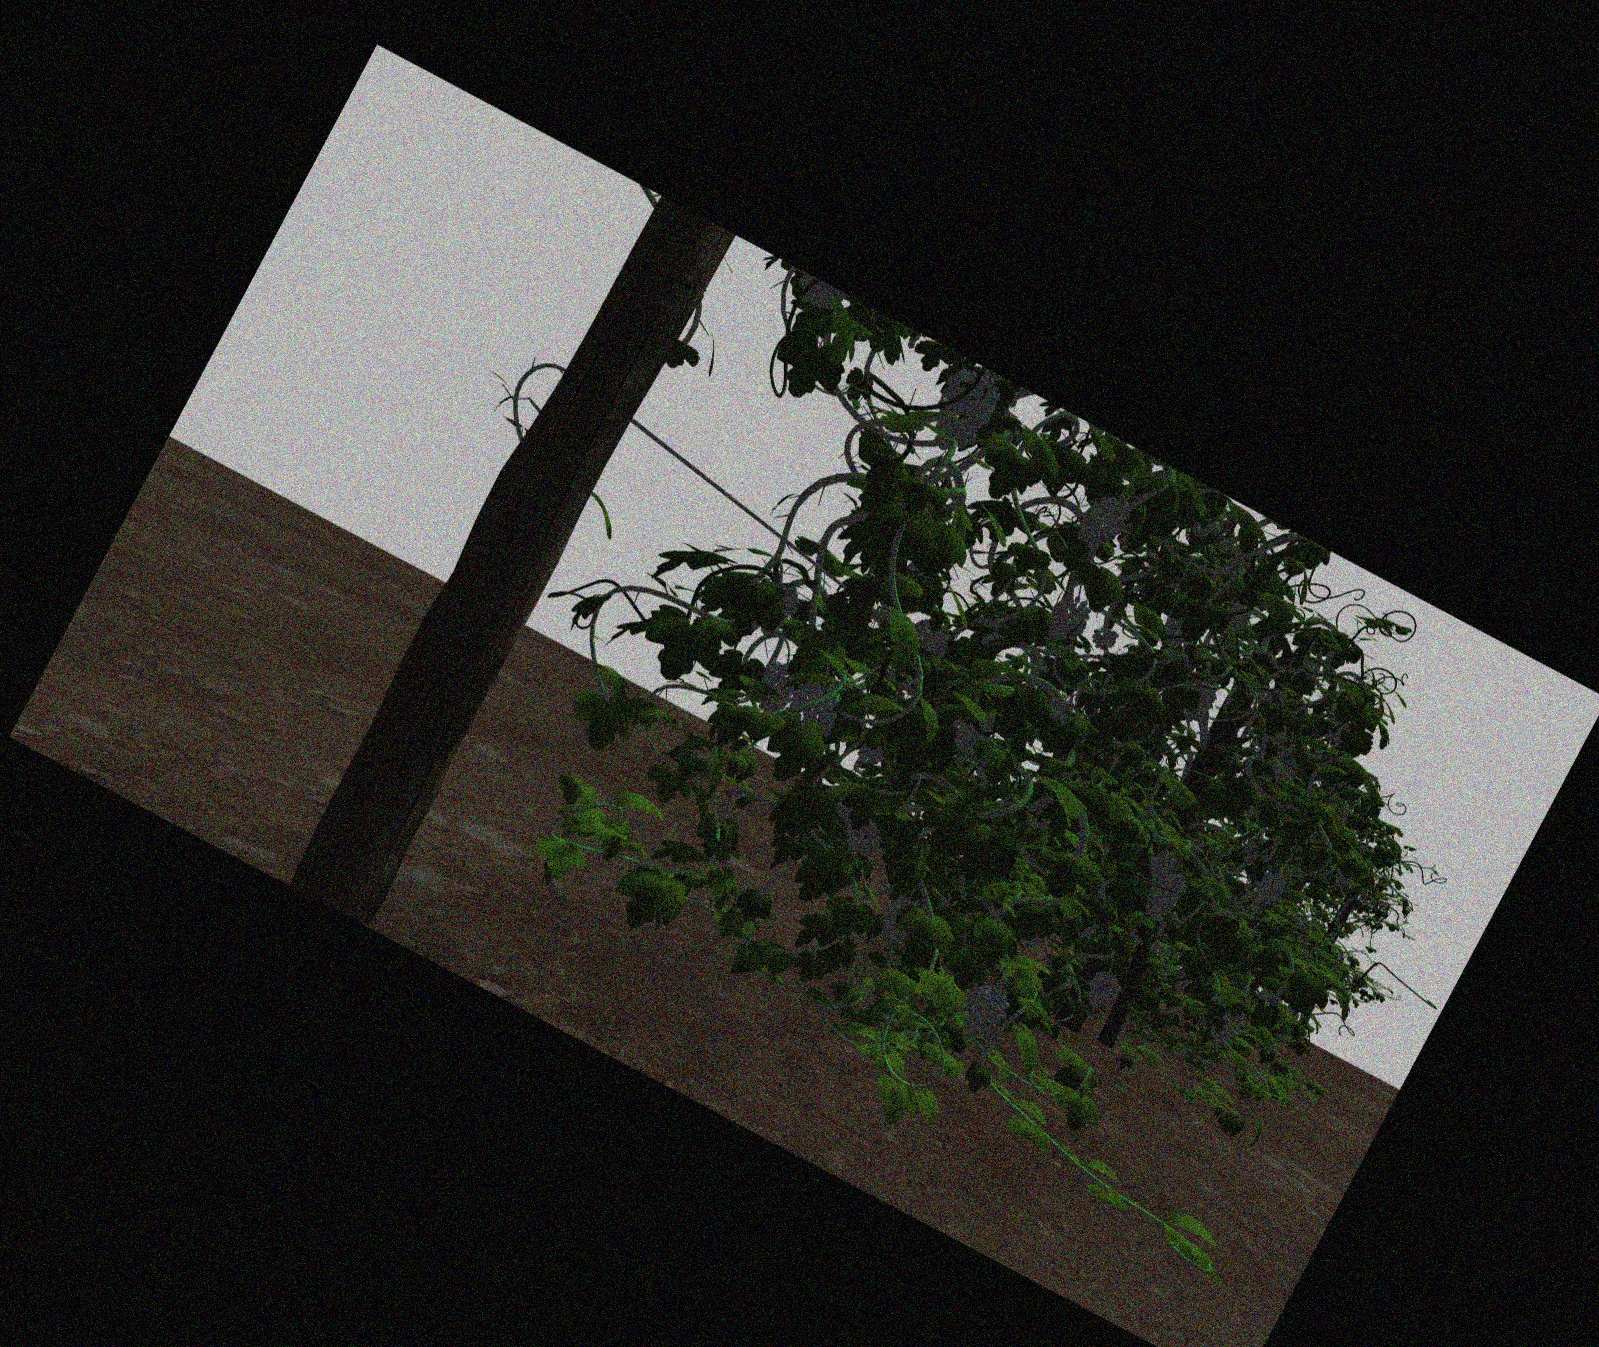grape: (936, 374, 987, 450), (959, 984, 1003, 1046), (1081, 494, 1122, 549), (791, 682, 838, 730), (1049, 595, 1086, 641), (759, 663, 792, 714), (880, 898, 912, 945), (1147, 877, 1176, 921), (1252, 869, 1280, 910), (1086, 971, 1114, 1010), (1214, 1008, 1240, 1048), (1151, 850, 1173, 881), (1091, 625, 1115, 649)
